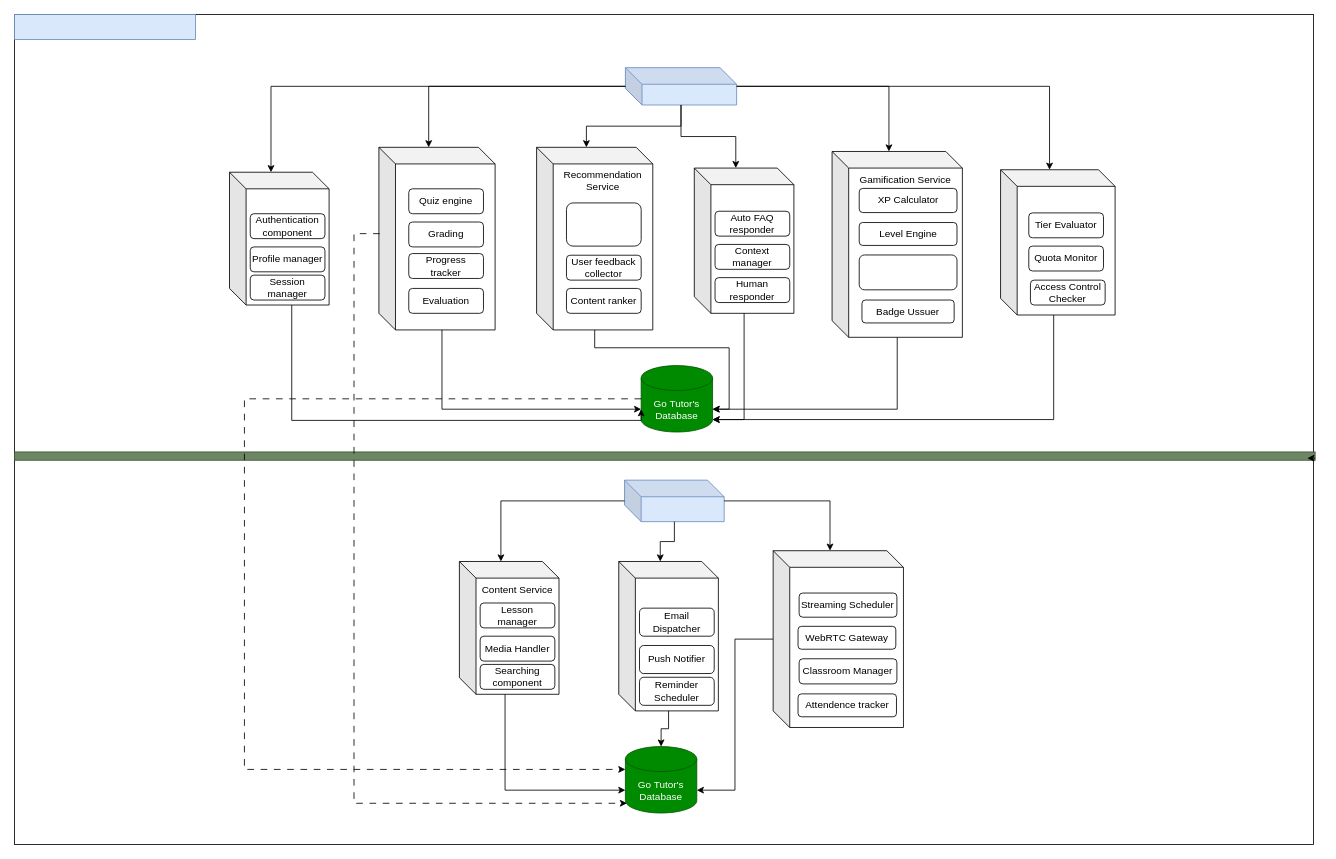
This 1336x859 diagram has some shape labels left out. Here are the shapes that lost their labels. From the top down, the box of each, then its label:
(14, 14, 195, 39): GoTutor service-based architecture style
(625, 67, 737, 105): Student Interface
(229, 171, 329, 305): User Service
(378, 146, 495, 330): Assessment Service
(566, 202, 641, 246): AI recommendation module
(693, 167, 794, 313): Chatbot Service
(1000, 169, 1115, 315): Premium Service
(858, 254, 957, 290): Leaderboard Generator
(624, 479, 724, 522): Instructor Admin Interface
(618, 561, 718, 711): Notification Service
(772, 550, 903, 727): Live Class Service
